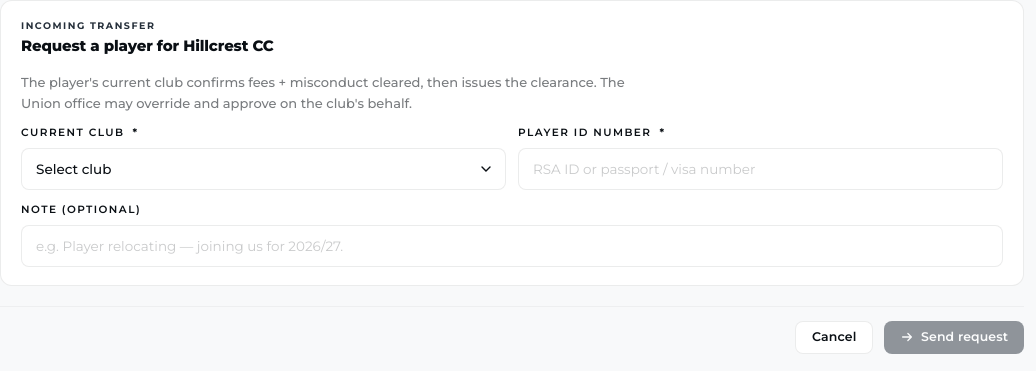
RequestPlayerForm while the transfer window is closed › shows no banner and enables Send request while the window is open
The width and height of the screenshot is (1036, 371).
Select "Riverside CC" in the dropdown at (264, 169), box [21, 148, 506, 190]
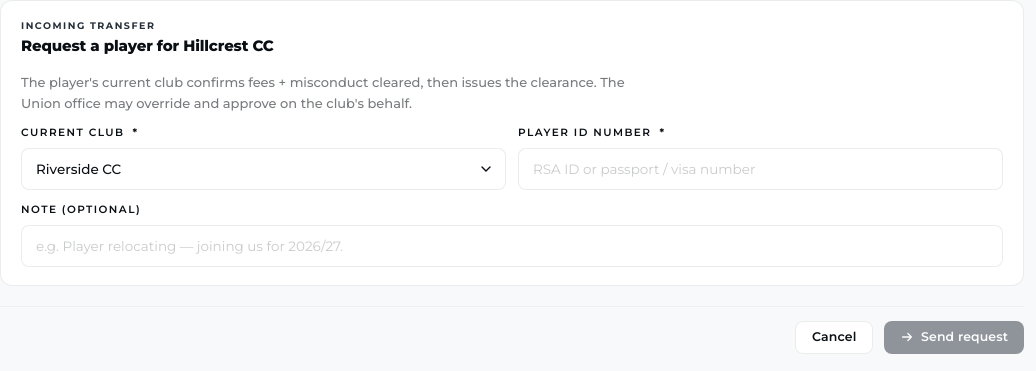
Type "0001015800088" into the field with placeholder "RSA ID or passport / visa number" at (760, 169), box [518, 148, 1003, 190]
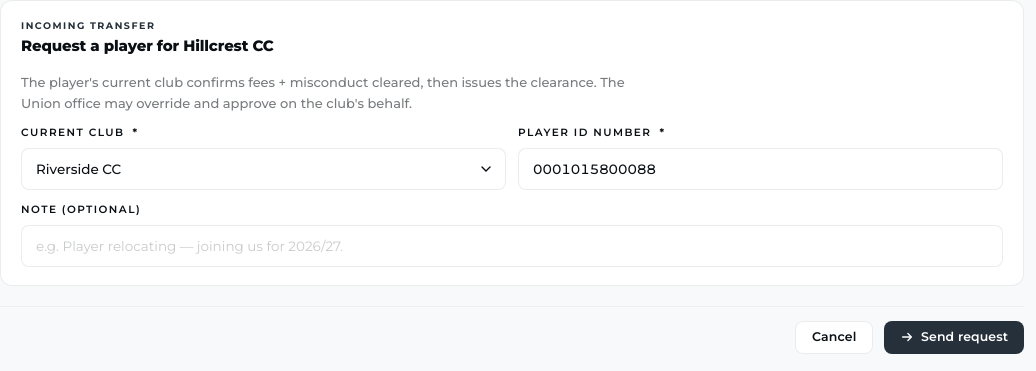
Result: the button "Send request" is enabled at [884, 321, 1024, 353]
